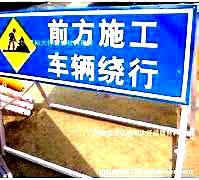sign: (1, 6, 189, 101)
